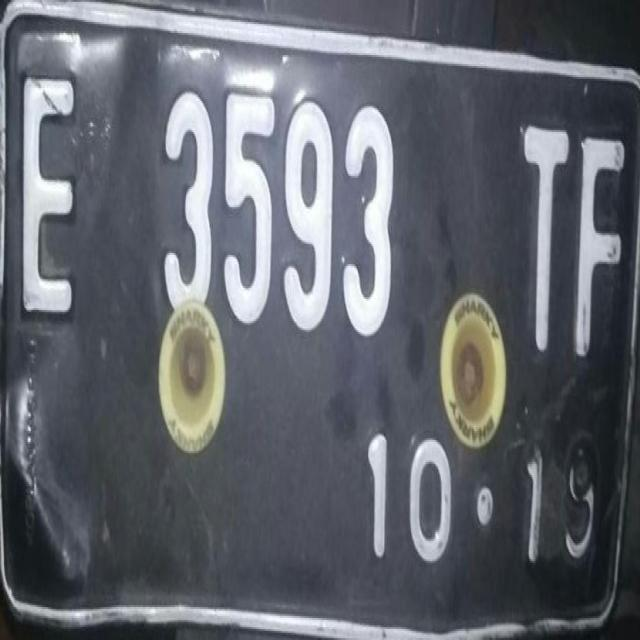plate: (0, 3, 635, 629)
